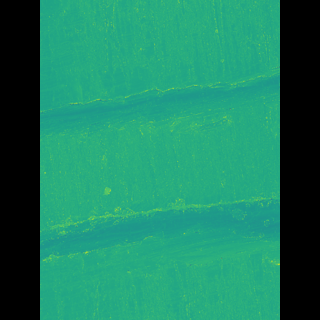Loch: (69, 0, 250, 144), (69, 190, 250, 320)
